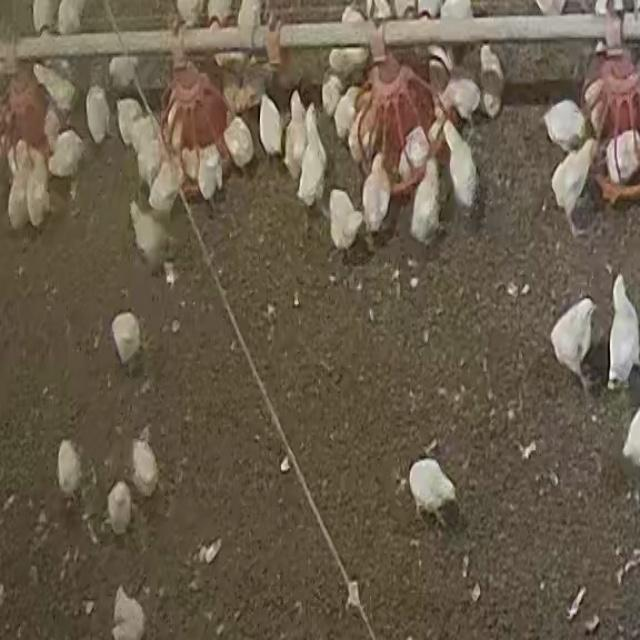chicken: (549, 297, 599, 397), (551, 137, 599, 230), (607, 274, 640, 391), (441, 120, 479, 214), (409, 460, 462, 524), (297, 107, 329, 205), (409, 154, 441, 245), (219, 59, 270, 115), (130, 198, 169, 270), (541, 96, 587, 152), (103, 310, 149, 365), (361, 154, 392, 234), (33, 62, 77, 118), (283, 90, 309, 178), (328, 188, 363, 253), (438, 74, 481, 126), (478, 43, 506, 118), (148, 156, 184, 214), (24, 148, 50, 228), (604, 130, 640, 187), (6, 151, 32, 229), (255, 93, 285, 157), (129, 434, 159, 498), (113, 583, 147, 639), (48, 128, 84, 180), (398, 125, 430, 183), (223, 114, 255, 170), (57, 437, 84, 500), (85, 83, 111, 145), (196, 146, 224, 202), (106, 480, 133, 536), (116, 98, 145, 150), (327, 46, 370, 81), (333, 87, 359, 141), (321, 74, 344, 118)
